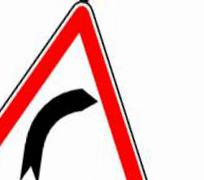right: (2, 1, 148, 180)
